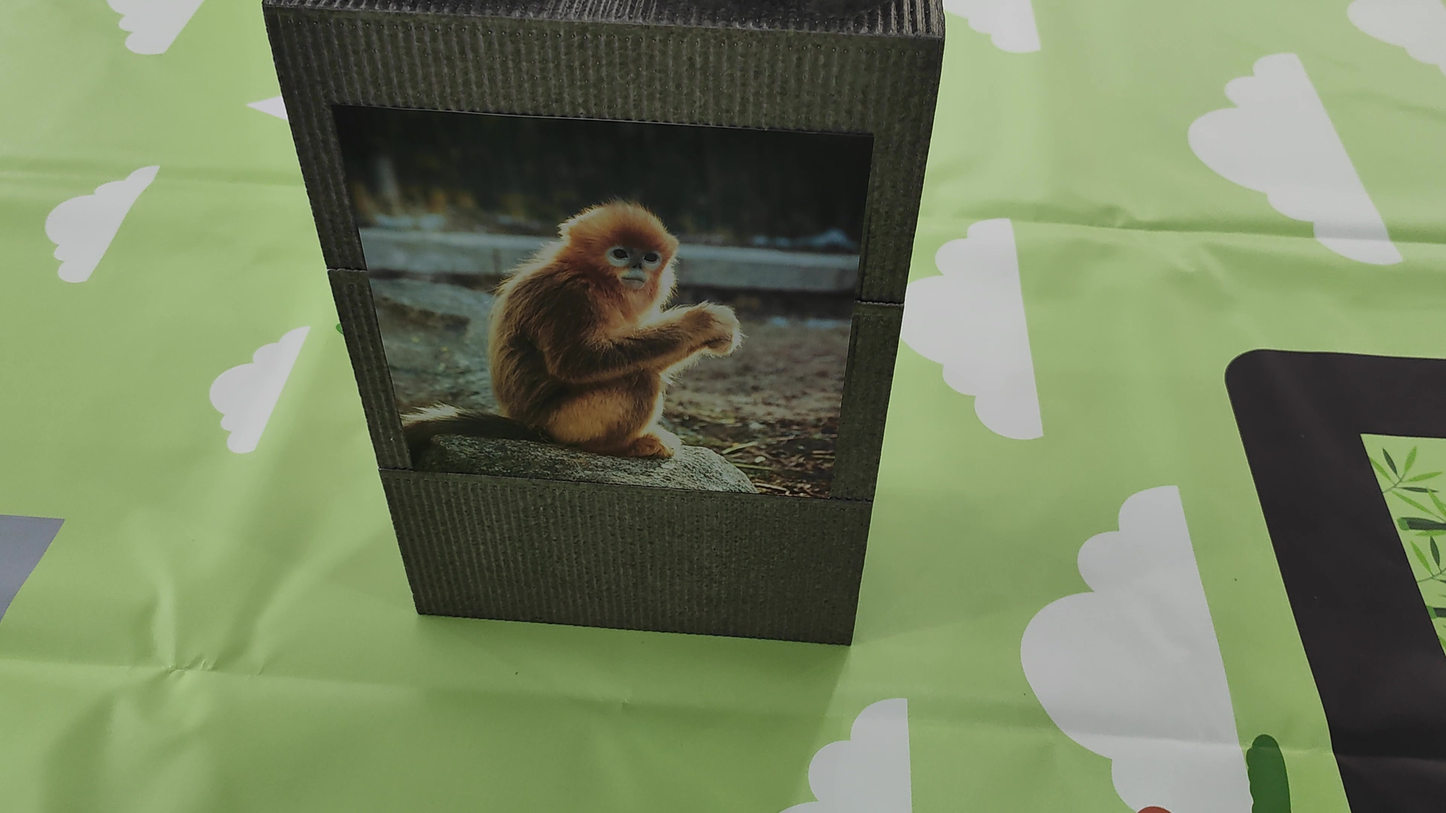monkey: (481, 189, 790, 493)
